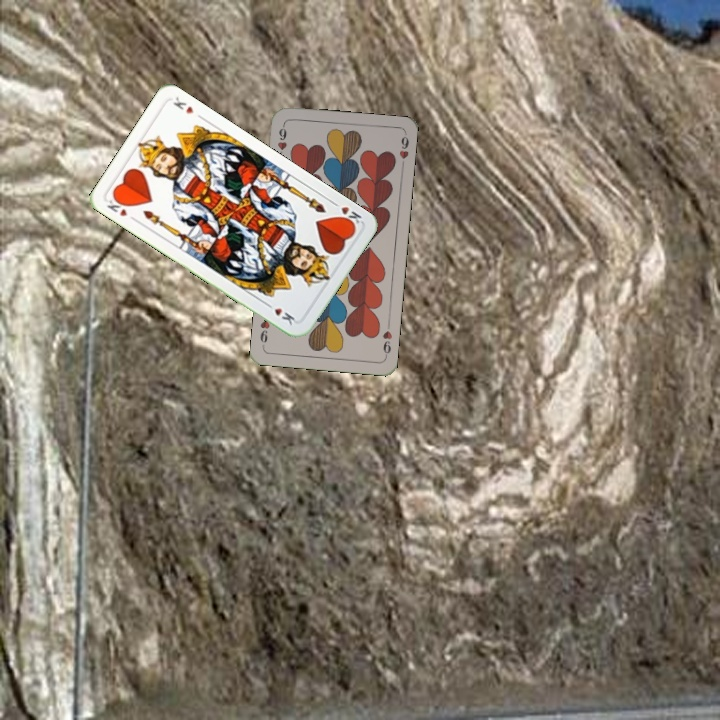H9: (379, 319, 395, 360), (273, 121, 289, 161)
HK: (328, 197, 364, 230), (103, 193, 139, 224)
